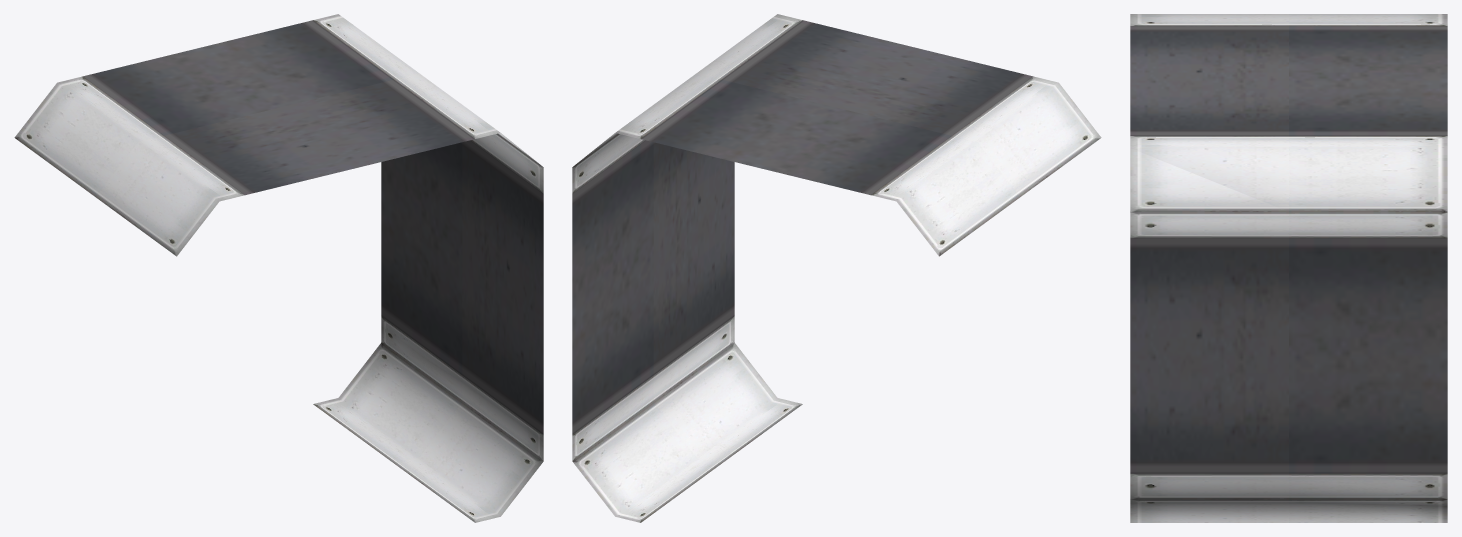
File: GroundTrimCap_1x1.FBX
3 views of the same model, side by side, from view 1: azimuth 30°, elevation 25°; view 2: azimuth 150°, elevation 25°; view 3: azimuth 270°, elevation 25° (orthographic). The views are drawn at different scales.
Visible parts, largest first — view 1: GroundTrimCap_1x1; view 2: GroundTrimCap_1x1; view 3: GroundTrimCap_1x1.
Boxes of the visible parts, box(x1,y1,x2,y2) form: GroundTrimCap_1x1: box(14, 14, 543, 522); GroundTrimCap_1x1: box(572, 14, 1101, 522); GroundTrimCap_1x1: box(1130, 14, 1447, 522).
Bounding box in the file's own units: 1.3 × 1.3 × 1.
